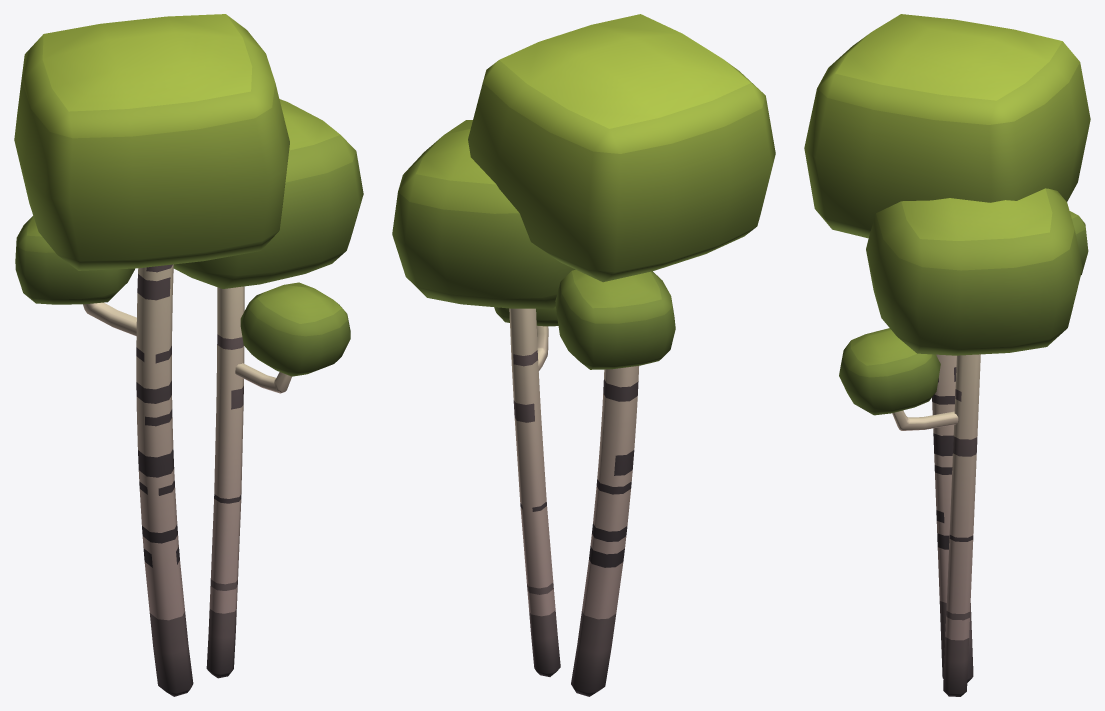
Rendered from birch_tree_col1_06.fbx.
The picture shows the model from 3 angles, left to right: view 1: azimuth 30°, elevation 25°; view 2: azimuth 150°, elevation 25°; view 3: azimuth 270°, elevation 25°; orthographic projection. The views are drawn at different scales.
Parts seen in each view (by area): view 1: birch_tree_col1_06; view 2: birch_tree_col1_06; view 3: birch_tree_col1_06.
Boxes of the visible parts, <box> form: birch_tree_col1_06: <box>14,14,363,696</box>; birch_tree_col1_06: <box>392,14,775,696</box>; birch_tree_col1_06: <box>804,14,1090,696</box>.
Size of the model in its own units: 373 by 706 by 294.
Materials: 1 (1 with a texture image).
